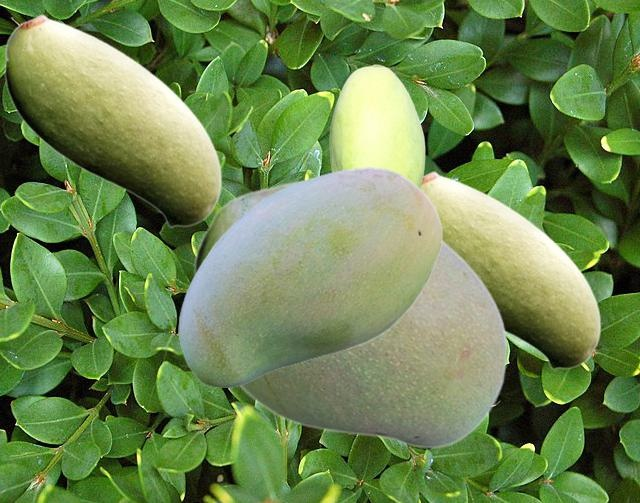green_mango: (193, 179, 507, 448), (178, 167, 442, 386), (4, 13, 221, 227), (421, 170, 600, 369), (329, 64, 424, 187)
